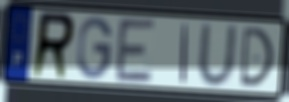D: (238, 26, 276, 89)
E: (114, 16, 158, 86)
G: (75, 15, 115, 82)
I: (179, 22, 191, 86)
R: (29, 10, 78, 82)
U: (196, 23, 239, 89)
